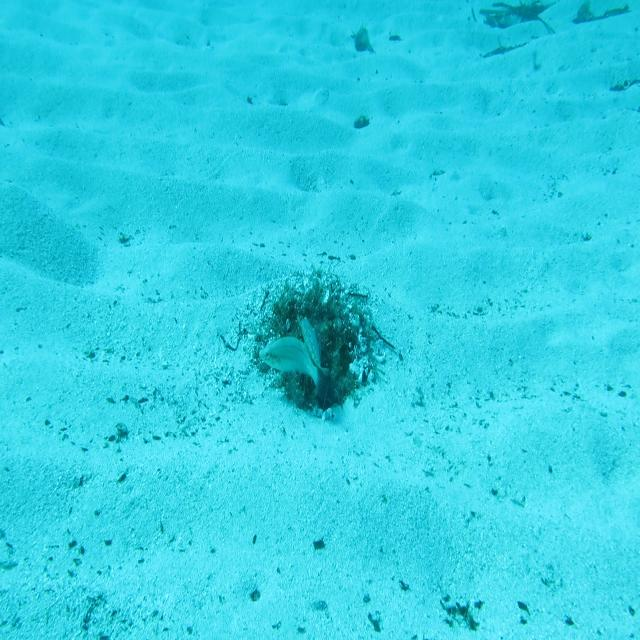ROLL: (296, 315, 332, 378)
female: (257, 334, 330, 408)
nest: (244, 260, 391, 428)
